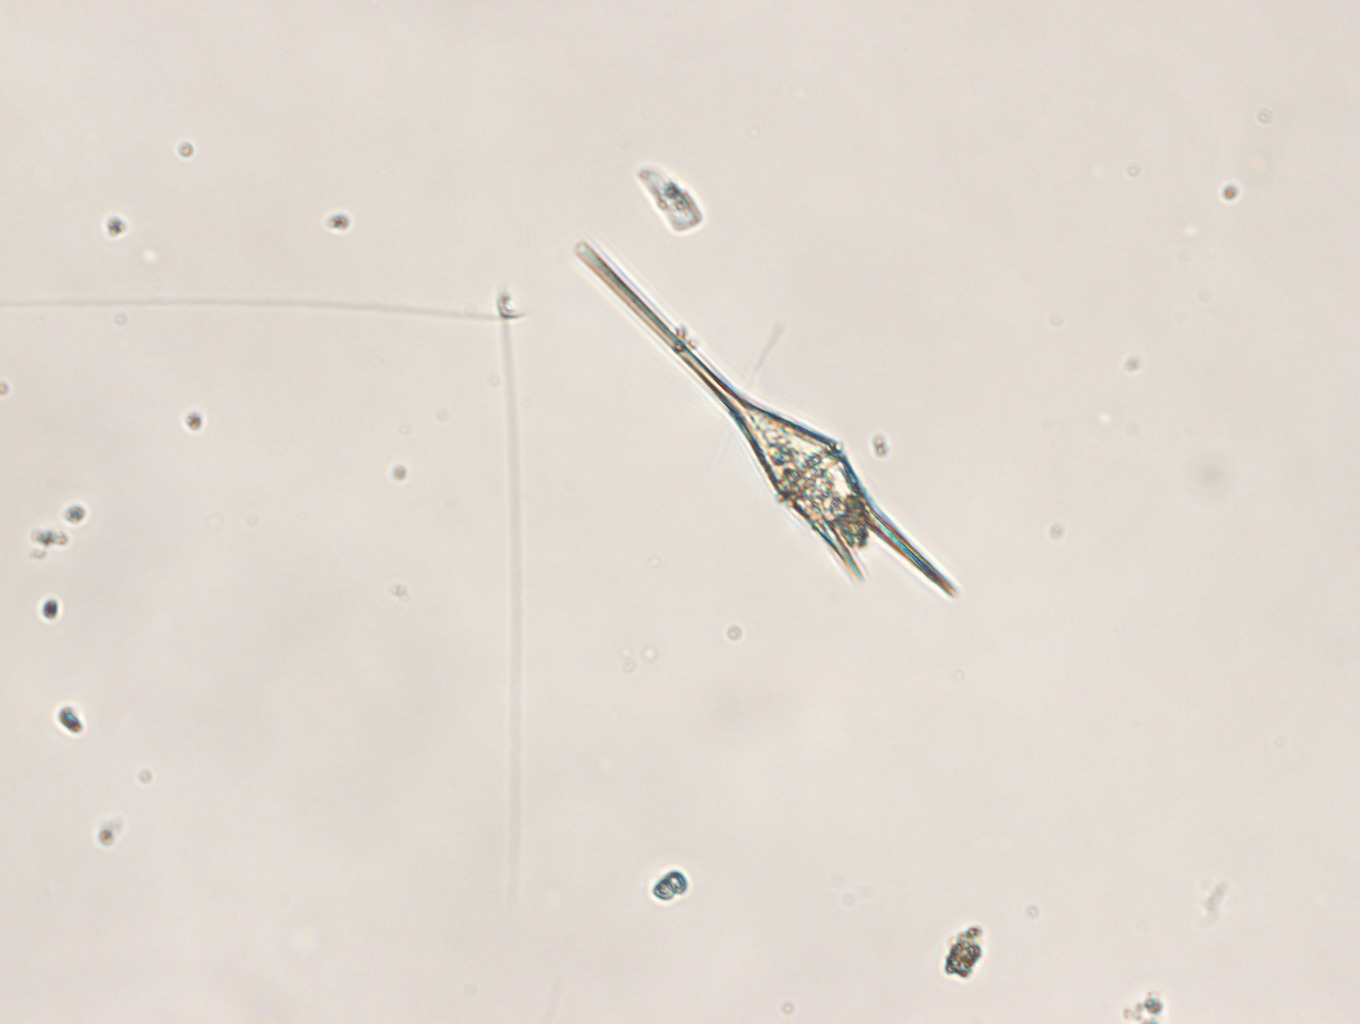ceratium furca: (576, 242, 962, 601)
